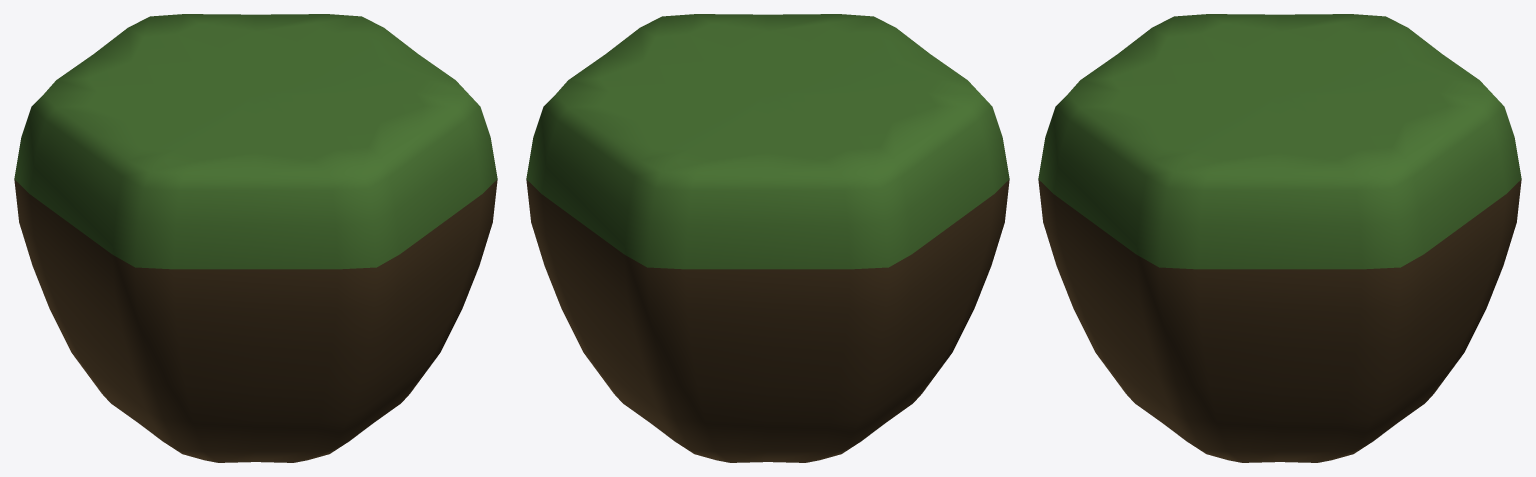
File: merkez-ada.fbx
3 renders of one model, left to right at view 1: azimuth 30°, elevation 25°; view 2: azimuth 150°, elevation 25°; view 3: azimuth 270°, elevation 25°, orthographic.
Parts seen in each view (by area): view 1: Circle; view 2: Circle; view 3: Circle.
Boxes of the visible parts, box(x1,y1,x2,y2) form: Circle: box(14, 14, 497, 462); Circle: box(526, 14, 1009, 462); Circle: box(1038, 14, 1521, 462).
Bounding box in the file's own units: 191 × 169 × 216.
